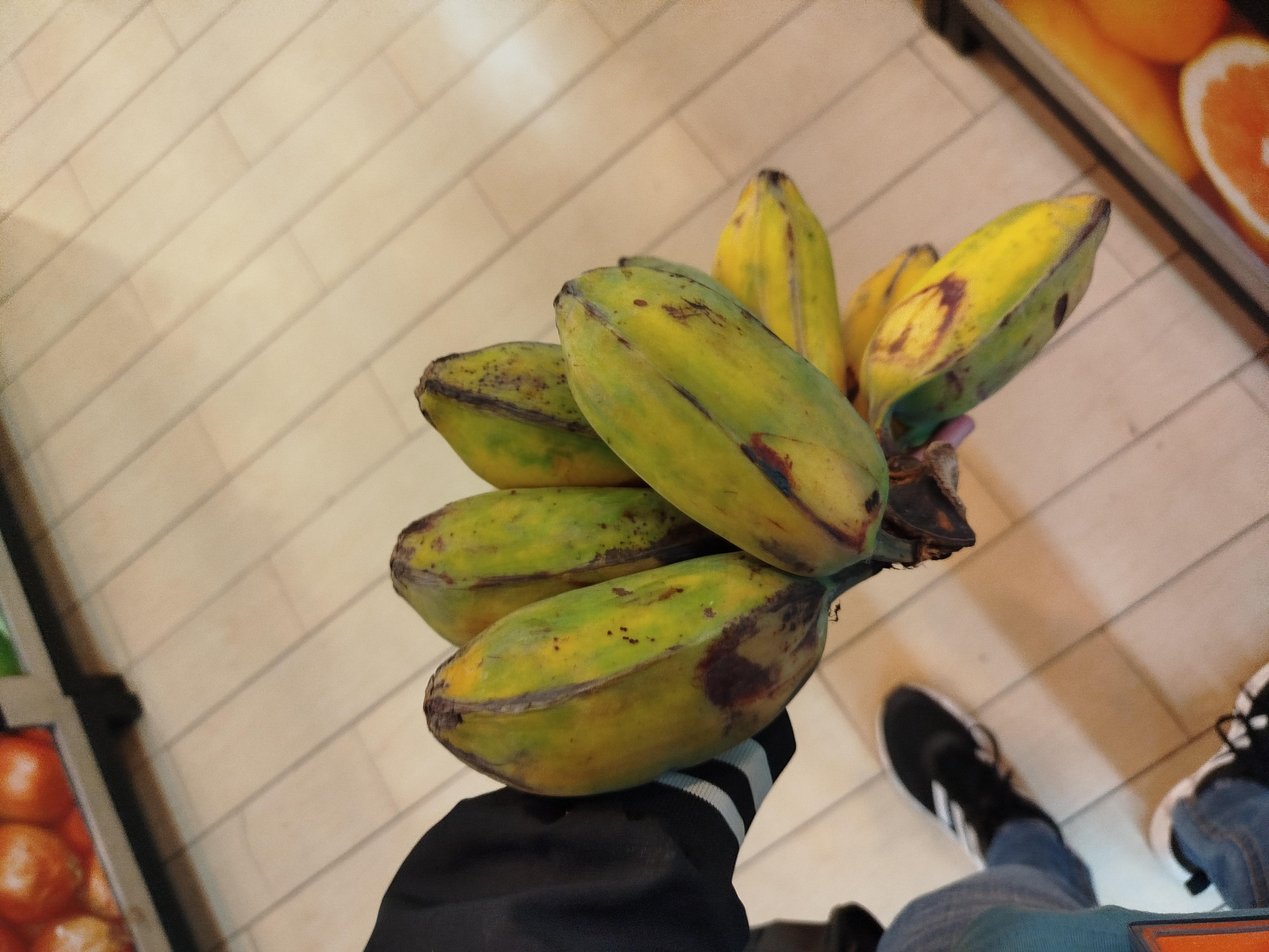underripe: (391, 170, 1109, 796)
